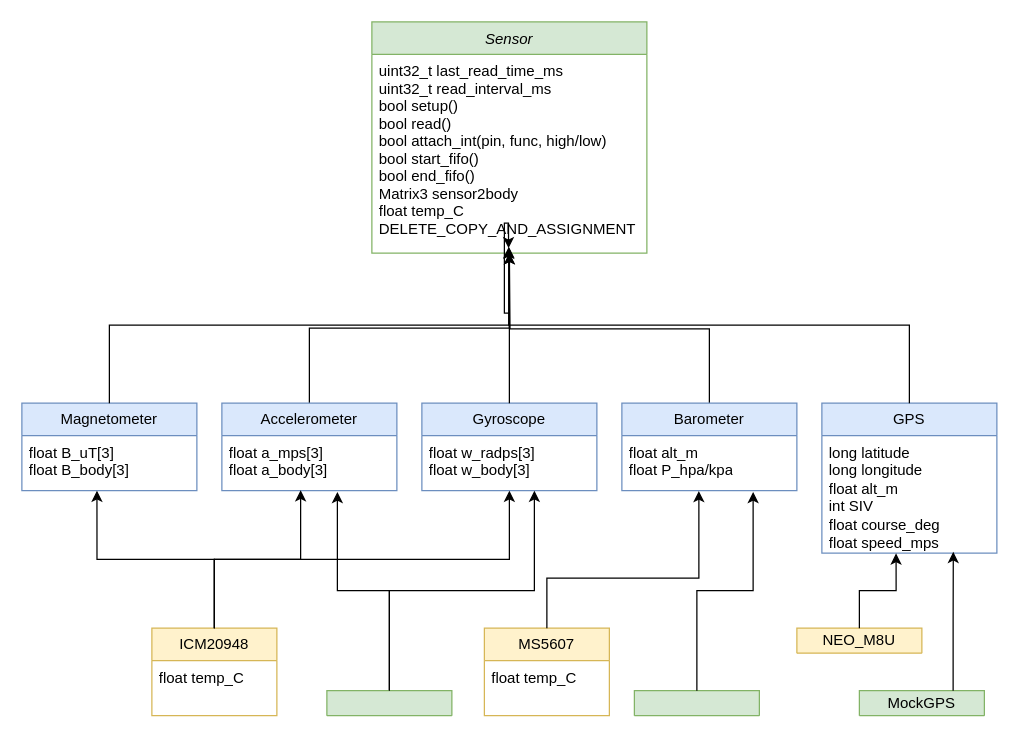
Some shapes in this 1019 by 741 pixel diagram are drawn without their labels. The centre of each missing label's shape, as x and y in pixels:
"MockBarometer" belongs at (696,702).
"MockIMU" belongs at (389,702).
